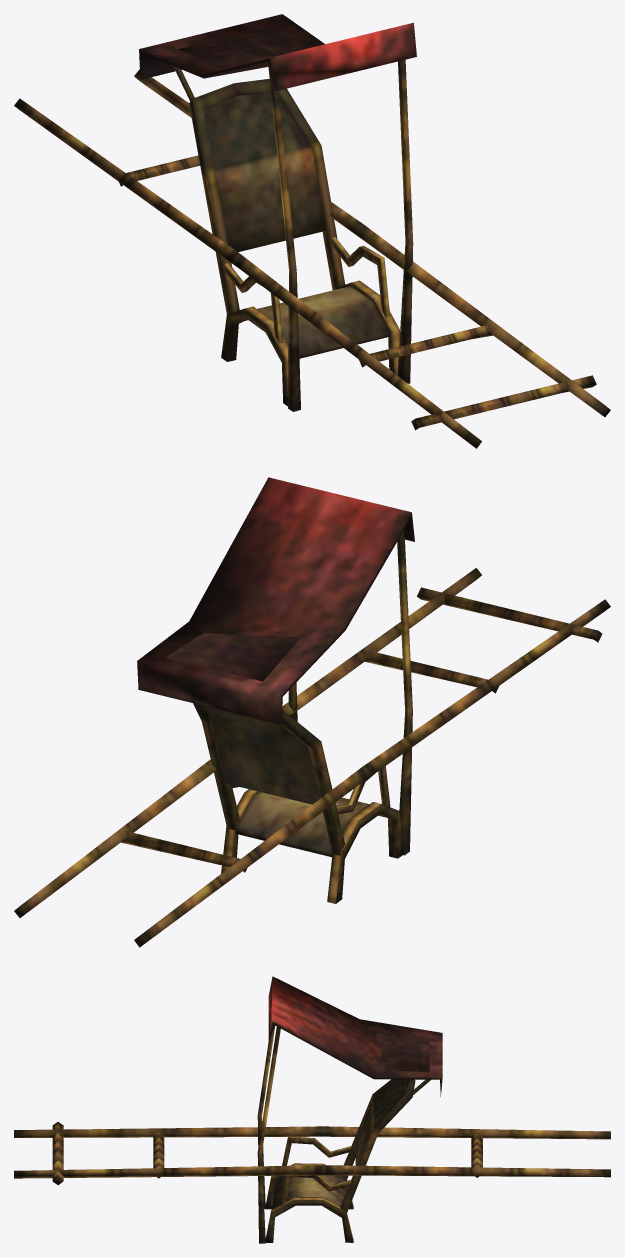
File: b_general_obj_06_01.fbx
3 renders of one model, top to bottom at view 1: azimuth 30°, elevation 25°; view 2: azimuth 150°, elevation 25°; view 3: azimuth 270°, elevation 25°, orthographic. The views are drawn at different scales.
Visible parts, largest first — view 1: B_general_obj_06; view 2: B_general_obj_06; view 3: B_general_obj_06.
Boxes of the visible parts, <box> form: B_general_obj_06: <box>14,14,610,448</box>; B_general_obj_06: <box>14,477,610,947</box>; B_general_obj_06: <box>14,976,610,1243</box>.
Bounding box in the file's own units: 1.24 × 2.34 × 5.59.
